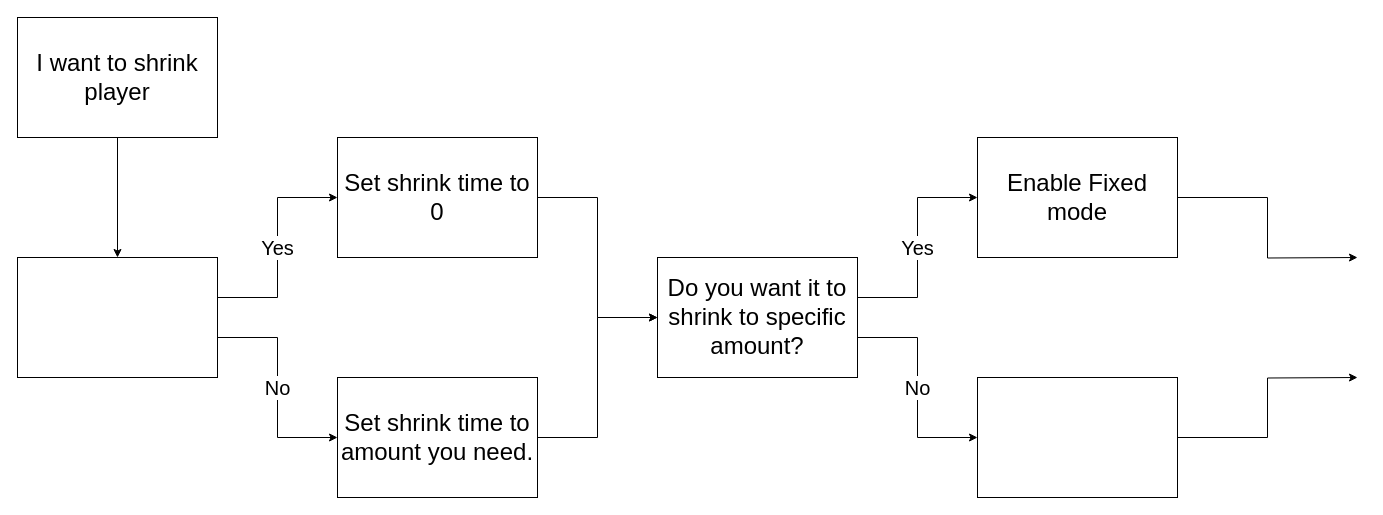
Some shapes in this 1383 by 515 pixel diagram are drawn without their labels. Each missing label, with the centre of its shape:
"Disable Fixed mode" goes at [1077,437].
"Do you want instant shrink?" goes at [117,317].
